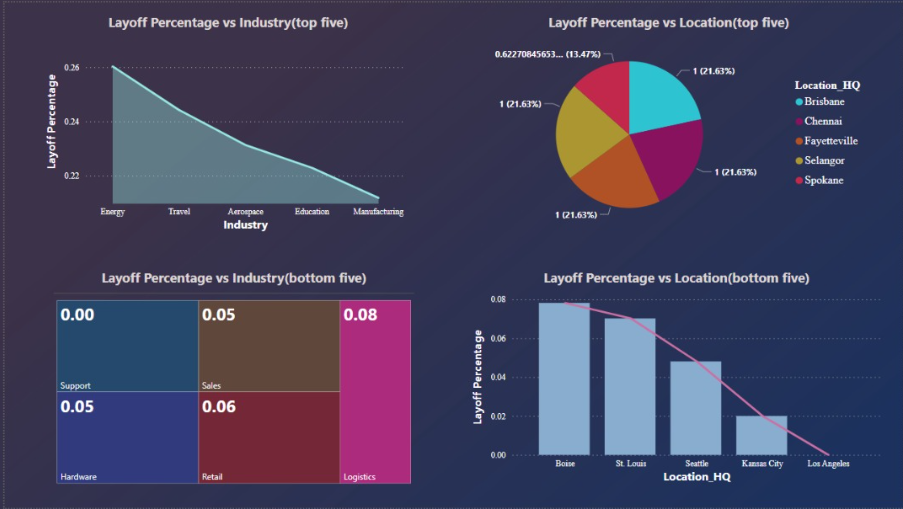

This screenshot's page, from the dashboard's own definition file:
{"tool":"powerbi","page":{"name":"USA","canvas":[1280,720],"ordinal":1},"visuals":[{"type":"treemap","title":"Layoff Percentage vs Industry(bottom five)","fields":{"Group":["USA_industry_wise_layoff_percentage_bottom_five.Layoff Percentage"],"Values":["CountNonNull(USA_industry_wise_layoff_percentage_bottom_five.Industry)"],"Details":["USA_industry_wise_layoff_percentage_bottom_five.Industry"]},"box":[70,378.8,513.8,311.2],"z":0},{"type":"pieChart","title":"Layoff Percentage vs Location(top five)","fields":{"Category":["USA_location_wise_layoff_percentage_top_five.Location_HQ"],"Y":["Sum(USA_location_wise_layoff_percentage_top_five.Layoff Percentage)"]},"box":[650,15,592.5,316.2],"z":1000},{"type":"areaChart","title":"Layoff Percentage vs Industry(top five)","fields":{"Category":["USA_industry_wise_layoff_percentage_top_five.Industry"],"Y":["Sum(USA_industry_wise_layoff_percentage_top_five.Layoff Percentage)"]},"box":[53.8,15,530,316.2],"z":2000},{"type":"lineStackedColumnComboChart","title":"Layoff Percentage vs Location(bottom five)","fields":{"Y":["Max(USA_location_wise_layoff_percentage_bottom_five.Layoff Percentage)"],"Category":["USA_location_wise_layoff_percentage_bottom_five.Location_HQ"],"Y2":["Max(USA_location_wise_layoff_percentage_bottom_five.Layoff Percentage)"]},"box":[661.2,378.8,592.5,311.2],"z":3000}]}

Visuals, with their boxes in screenshot pixels (x1, y1, x2, y2), scaled from the page's 1280x720 canvas onto the 903x509 screenshot:
"Layoff Percentage vs Industry(bottom five)" treemap: select_region(49, 268, 412, 488)
"Layoff Percentage vs Location(top five)" pieChart: select_region(459, 11, 877, 234)
"Layoff Percentage vs Industry(top five)" areaChart: select_region(38, 11, 412, 234)
"Layoff Percentage vs Location(bottom five)" lineStackedColumnComboChart: select_region(466, 268, 884, 488)
